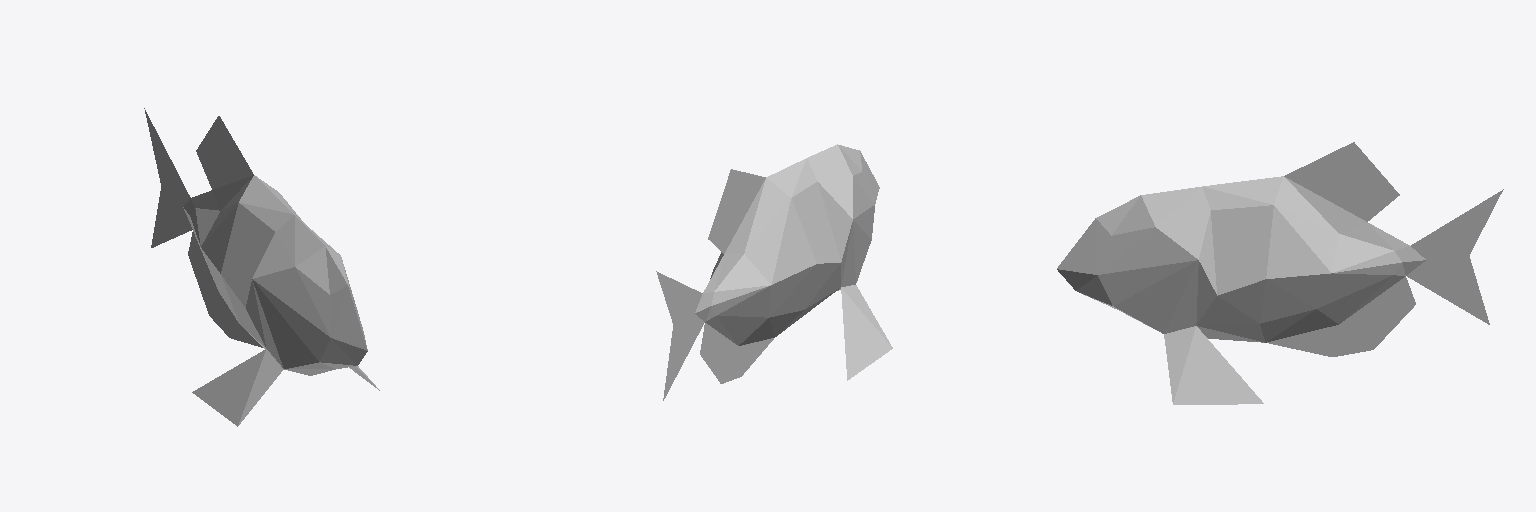
Rendered from fish.obj.
The picture shows the model from 3 angles: view 1: azimuth 30°, elevation 25°; view 2: azimuth 150°, elevation 25°; view 3: azimuth 270°, elevation 25°; orthographic projection.
Visible parts, largest first — view 1: Piranha; view 2: Piranha; view 3: Piranha.
Part boxes in pixels (left/top/right/bottom): Piranha: left=144, top=108, right=379, bottom=426; Piranha: left=656, top=144, right=892, bottom=400; Piranha: left=1057, top=142, right=1503, bottom=404.
Bounding box in the file's own units: 0.3342 × 0.5084 × 0.903.